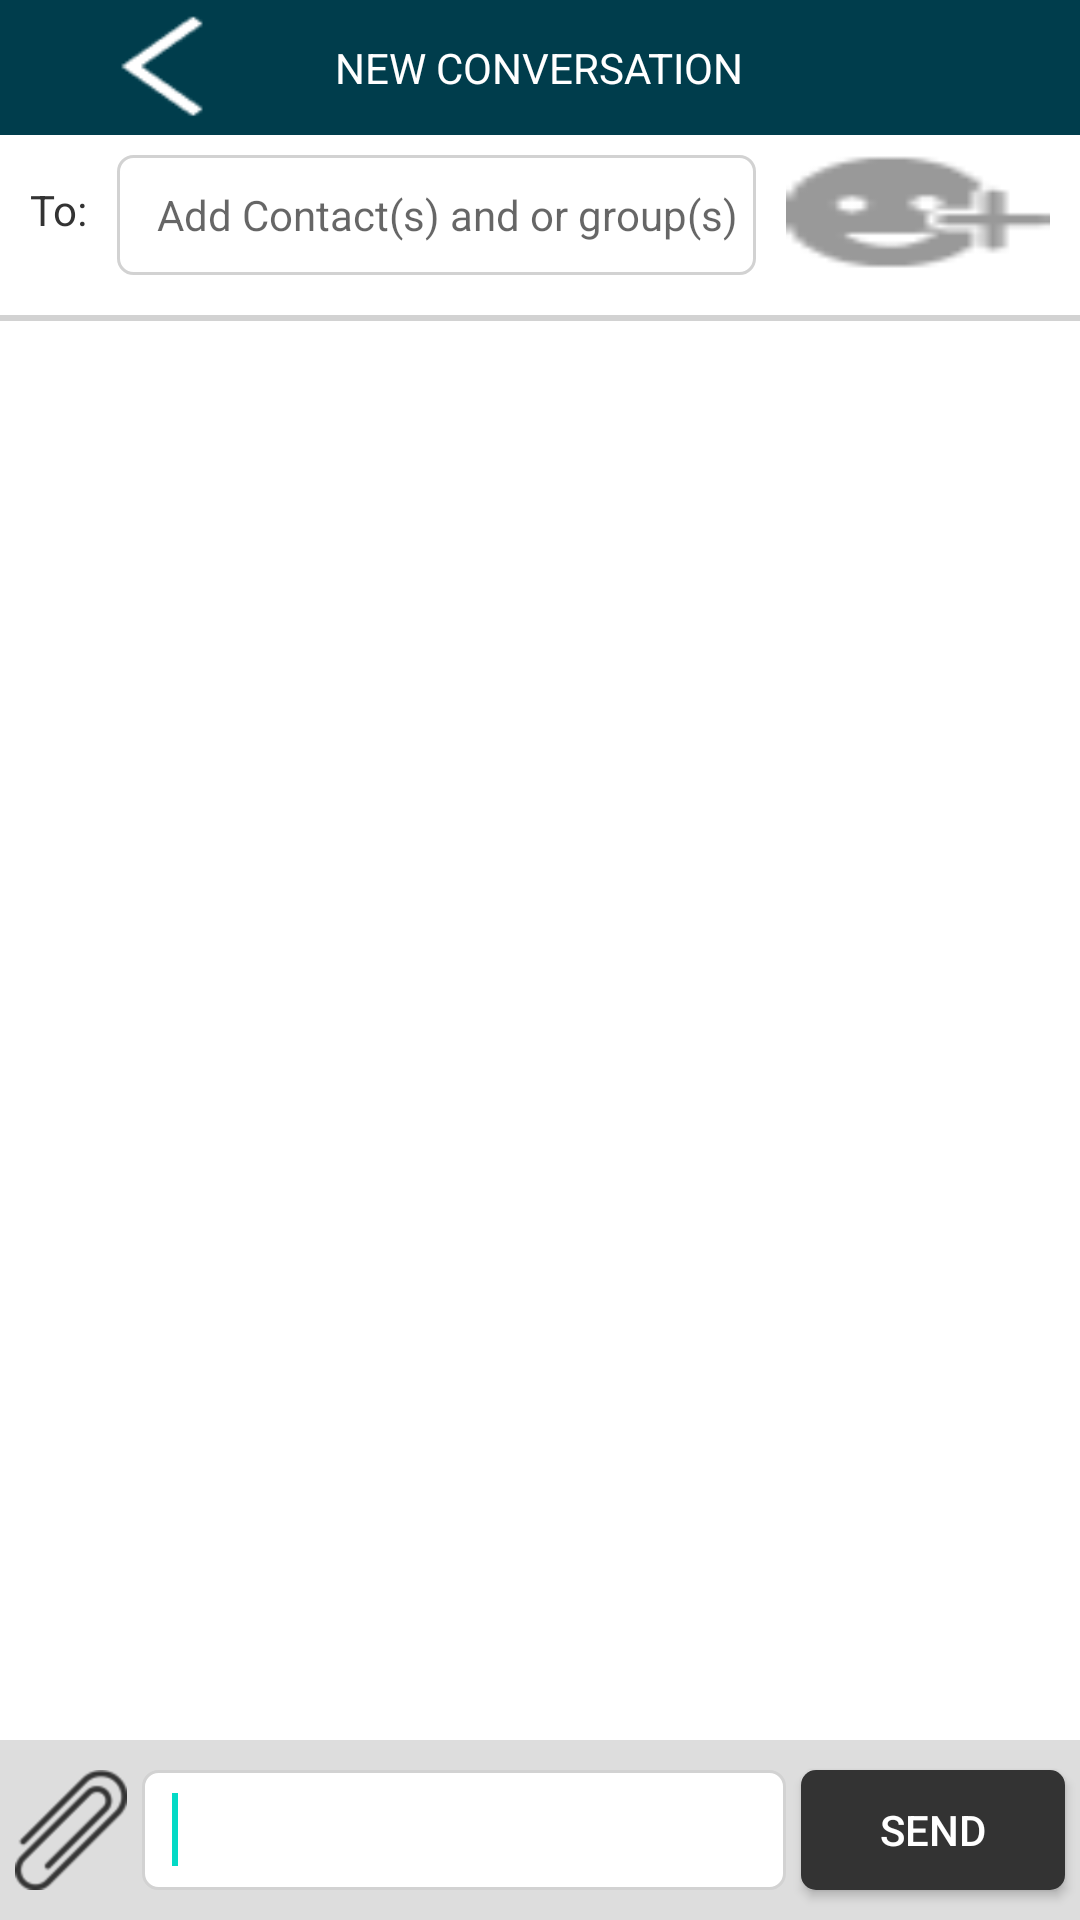

Where icons sit on this 1080x1920 app screen, as (x1, y1, x2, y2):
attachment: (15, 1770, 127, 1890)
back arrow: (121, 16, 203, 116)
